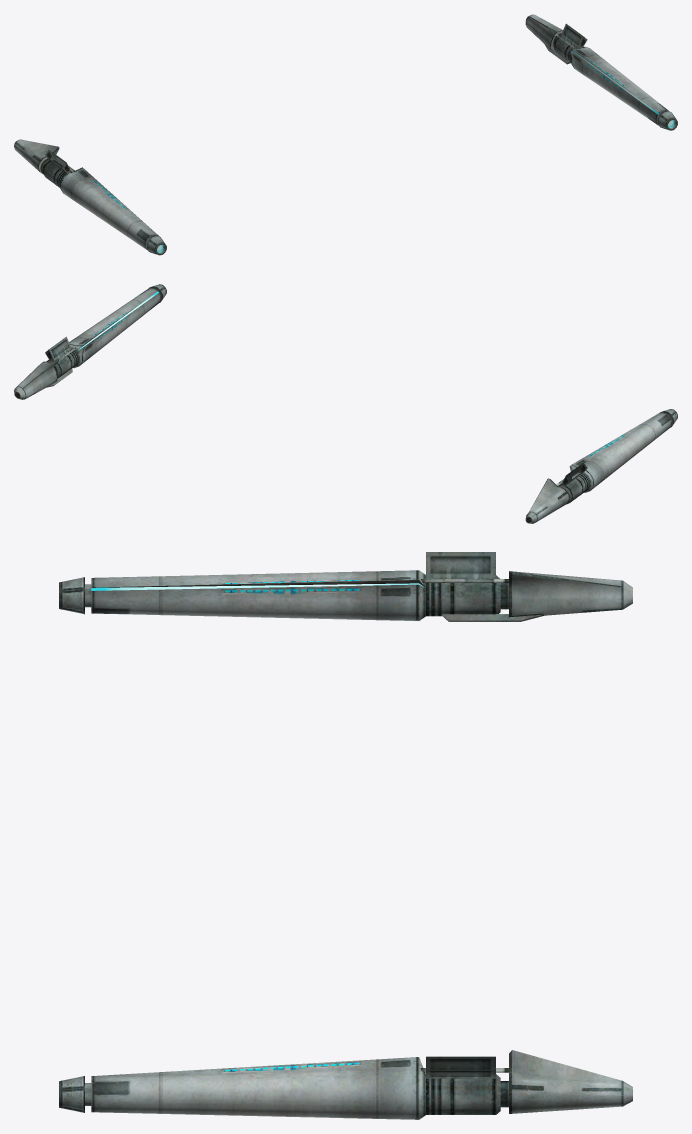
File: hutt_fighter_medium_weapon1_s02_l0.fbx
The picture shows the model from 3 angles, top to bottom: view 1: azimuth 30°, elevation 25°; view 2: azimuth 150°, elevation 25°; view 3: azimuth 270°, elevation 25°; orthographic projection. The views are drawn at different scales.
Parts seen in each view (by area): view 1: mesh_node; view 2: mesh_node; view 3: mesh_node.
Part boxes in pixels (x1,y1,x2,y2): mesh_node: [14, 14, 677, 255]; mesh_node: [14, 284, 677, 523]; mesh_node: [59, 552, 632, 1119].
Bounding box in the file's own units: 13.88 × 0.7895 × 6.48.
Materials: 1 (1 with a texture image).
